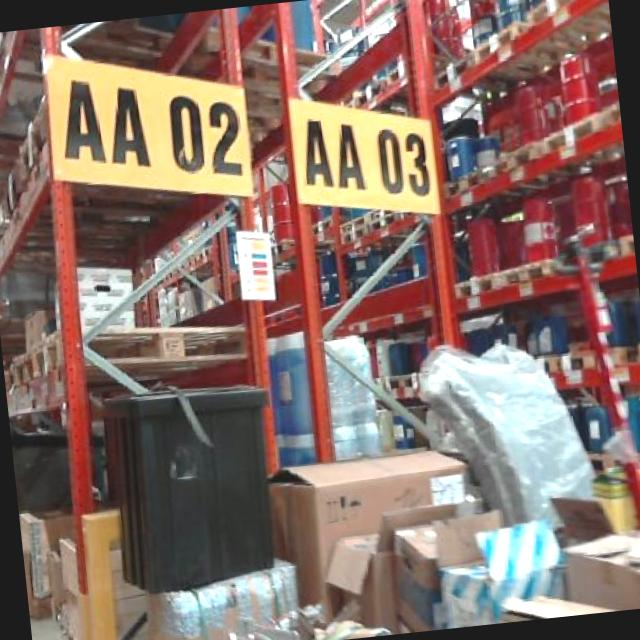pallet: (0, 304, 255, 402)
